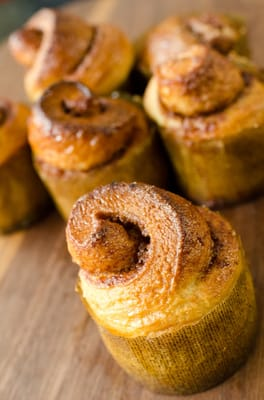taco: (70, 180, 258, 395)
